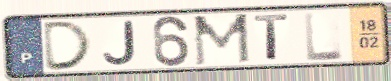6: (151, 15, 190, 69)
D: (42, 19, 96, 73)
J: (101, 19, 139, 67)
L: (301, 10, 346, 63)
M: (191, 12, 253, 68)
T: (252, 13, 292, 63)
